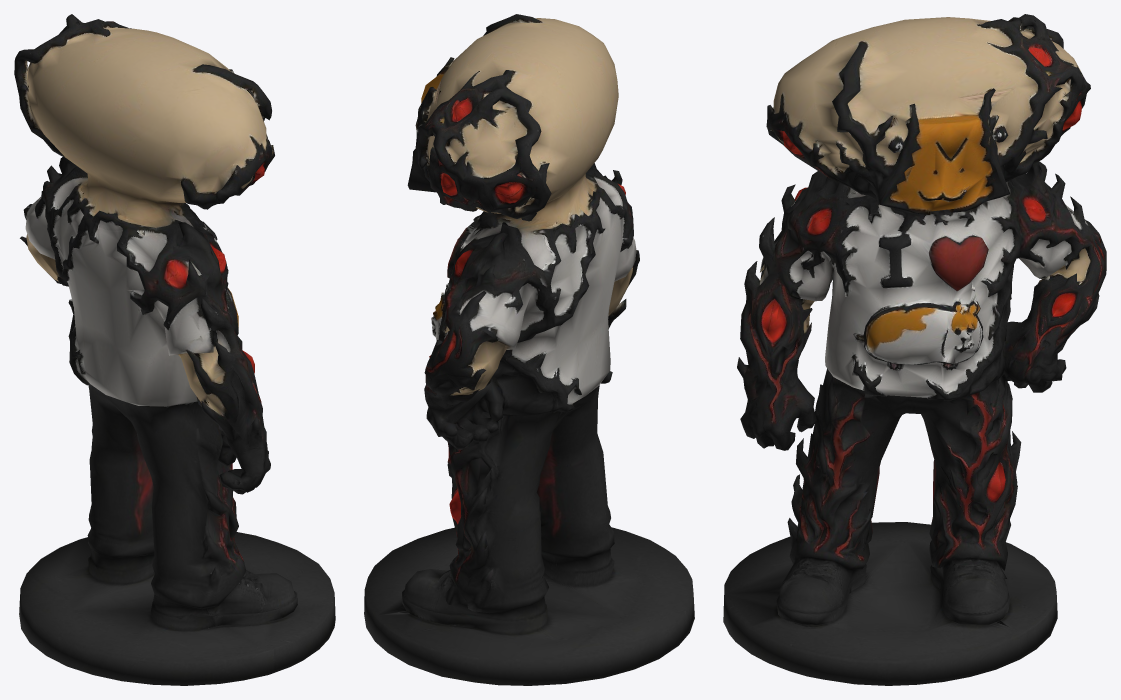
File: Hamste-God-Symbiote.glb
3 renders of one model, left to right at view 1: azimuth 30°, elevation 25°; view 2: azimuth 150°, elevation 25°; view 3: azimuth 270°, elevation 25°, orthographic. The views are drawn at different scales.
Visible parts, largest first — view 1: tripo_node_b483c9d7-6a18-4ab8-a0c1-82f8e28cfc11; view 2: tripo_node_b483c9d7-6a18-4ab8-a0c1-82f8e28cfc11; view 3: tripo_node_b483c9d7-6a18-4ab8-a0c1-82f8e28cfc11.
Boxes of the visible parts, bbox=[...] form: tripo_node_b483c9d7-6a18-4ab8-a0c1-82f8e28cfc11: bbox=[14, 14, 335, 685]; tripo_node_b483c9d7-6a18-4ab8-a0c1-82f8e28cfc11: bbox=[364, 14, 694, 685]; tripo_node_b483c9d7-6a18-4ab8-a0c1-82f8e28cfc11: bbox=[723, 14, 1106, 685].
Bounding box in the file's own units: 0.4986 × 0.978 × 0.5827.
Materials: 1 (1 with a texture image).
